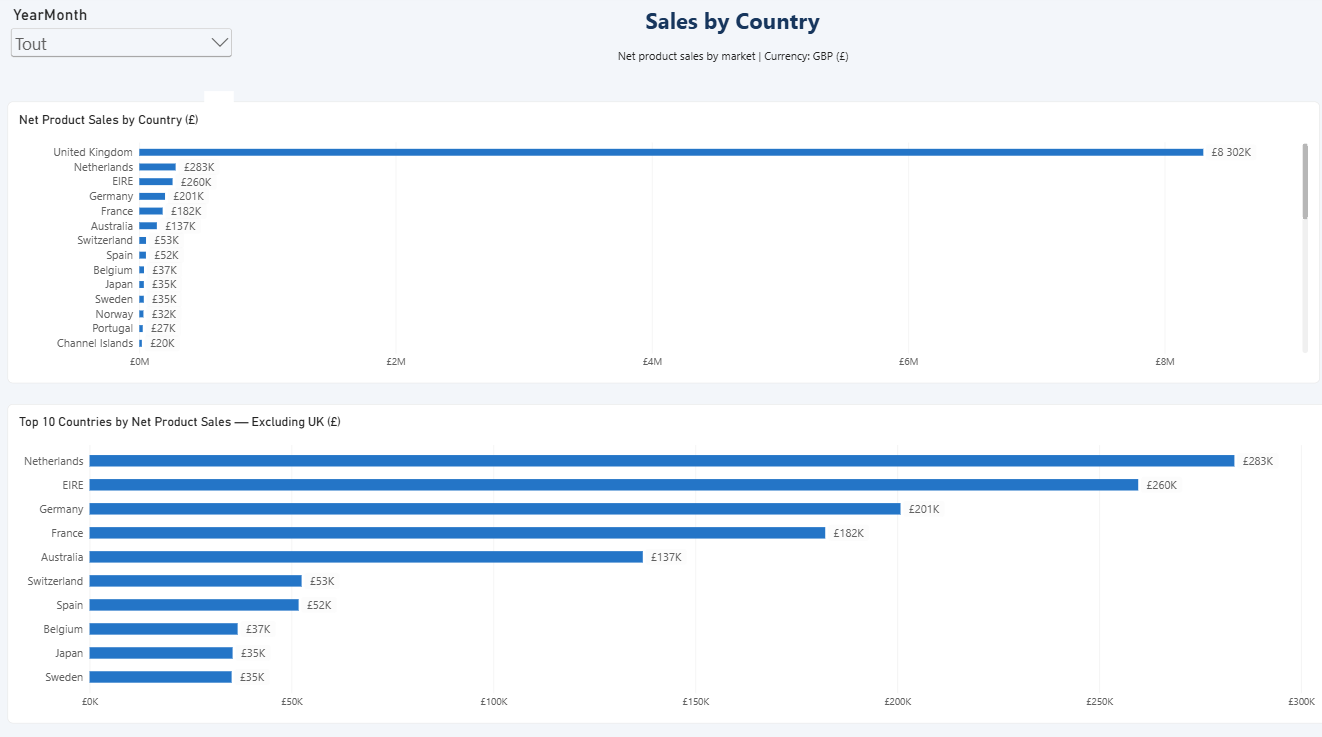

This screenshot's page, from the dashboard's own definition file:
{"tool":"powerbi","page":{"name":"Country Analysis","canvas":[1920,1080],"ordinal":4},"visuals":[{"type":"clusteredBarChart","title":"Net Product Sales by Country (£)","fields":{"Category":["DimCountry.Country"],"Y":["FactTransactions.Net Product Sales"]},"box":[10,156,1900,408],"z":0},{"type":"clusteredBarChart","title":"Top 10 Countries by Net Product Sales — Excluding UK (£)","fields":{"Category":["DimCountry.Country"],"Y":["FactTransactions.Net Product Sales"]},"box":[10,594,1910,462],"z":1000},{"type":"slicer","fields":{"Values":["DimDate.YearMonth"]},"box":[10,16,330,124],"z":2000},{"type":"textbox","box":[480,16,1162,62],"z":3000},{"type":"textbox","box":[576,78,972,48],"z":4000}]}

Visuals, with their boxes in screenshot pixels (x1, y1, x2, y2), scaled from the page's 1920x1080 canvas onto the 1322x737 screenshot:
"Net Product Sales by Country (£)" clusteredBarChart: {"x1": 7, "y1": 106, "x2": 1315, "y2": 385}
"Top 10 Countries by Net Product Sales — Excluding UK (£)" clusteredBarChart: {"x1": 7, "y1": 405, "x2": 1321, "y2": 721}
slicer - DimDate.YearMonth: {"x1": 7, "y1": 11, "x2": 234, "y2": 96}
textbox: {"x1": 330, "y1": 11, "x2": 1131, "y2": 53}
textbox: {"x1": 397, "y1": 53, "x2": 1066, "y2": 86}
